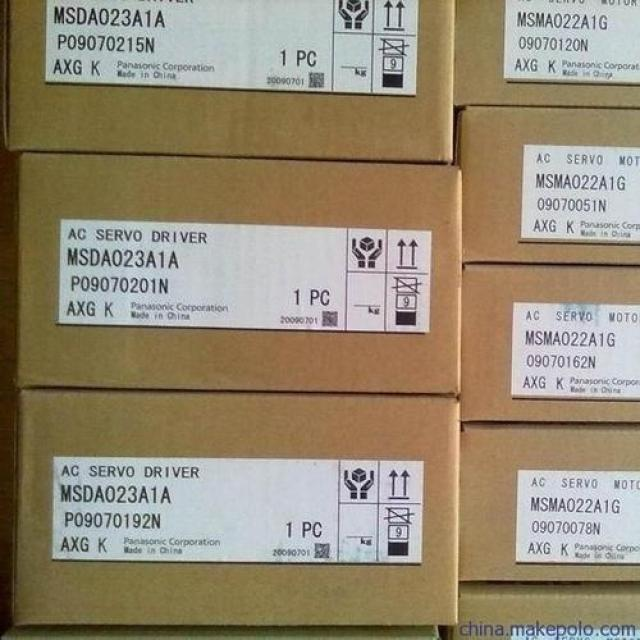box: (13, 152, 463, 396), (12, 387, 462, 626), (457, 105, 640, 265), (461, 260, 640, 421), (460, 422, 640, 581), (454, 0, 640, 106), (443, 581, 640, 640)
